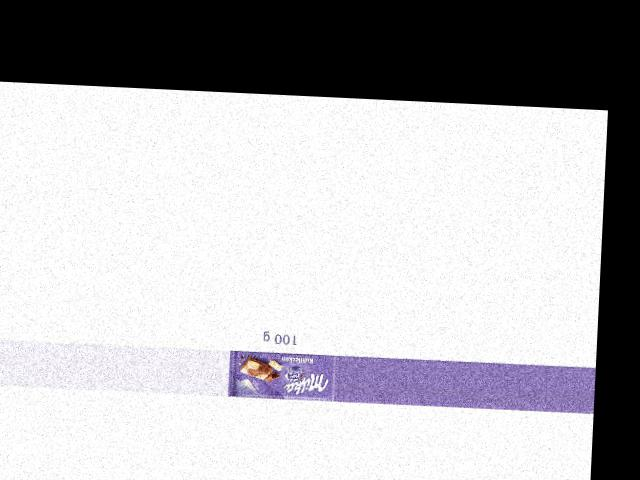chocolate: (226, 343, 340, 403)
